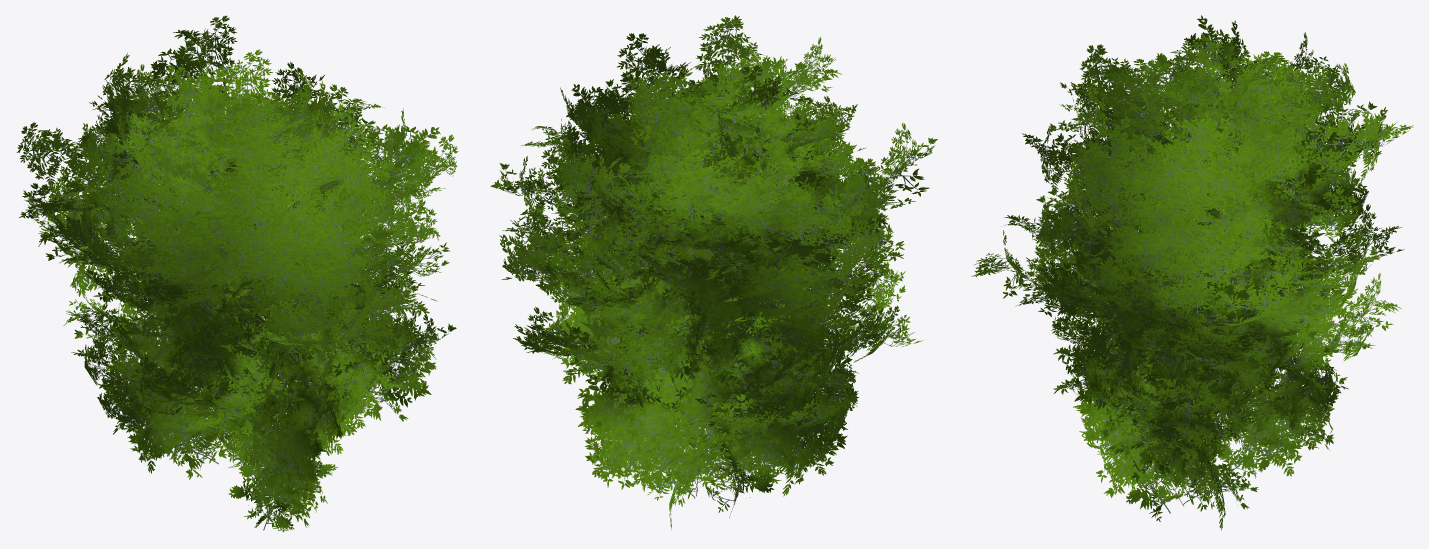
3 renders of one model, left to right at view 1: azimuth 30°, elevation 25°; view 2: azimuth 150°, elevation 25°; view 3: azimuth 270°, elevation 25°, orthographic. The views are drawn at different scales.
Visible parts, largest first — view 1: SM_BM_Ash_Canopy_01_LOD0; view 2: SM_BM_Ash_Canopy_01_LOD0; view 3: SM_BM_Ash_Canopy_01_LOD0.
Boxes of the visible parts, box(x1,y1,x2,y2) form: SM_BM_Ash_Canopy_01_LOD0: box(16, 15, 458, 532); SM_BM_Ash_Canopy_01_LOD0: box(490, 15, 937, 530); SM_BM_Ash_Canopy_01_LOD0: box(971, 15, 1413, 530).
Bounding box in the file's own units: 11.46 × 12.95 × 11.33.
Materials: 1 (1 with a texture image).
